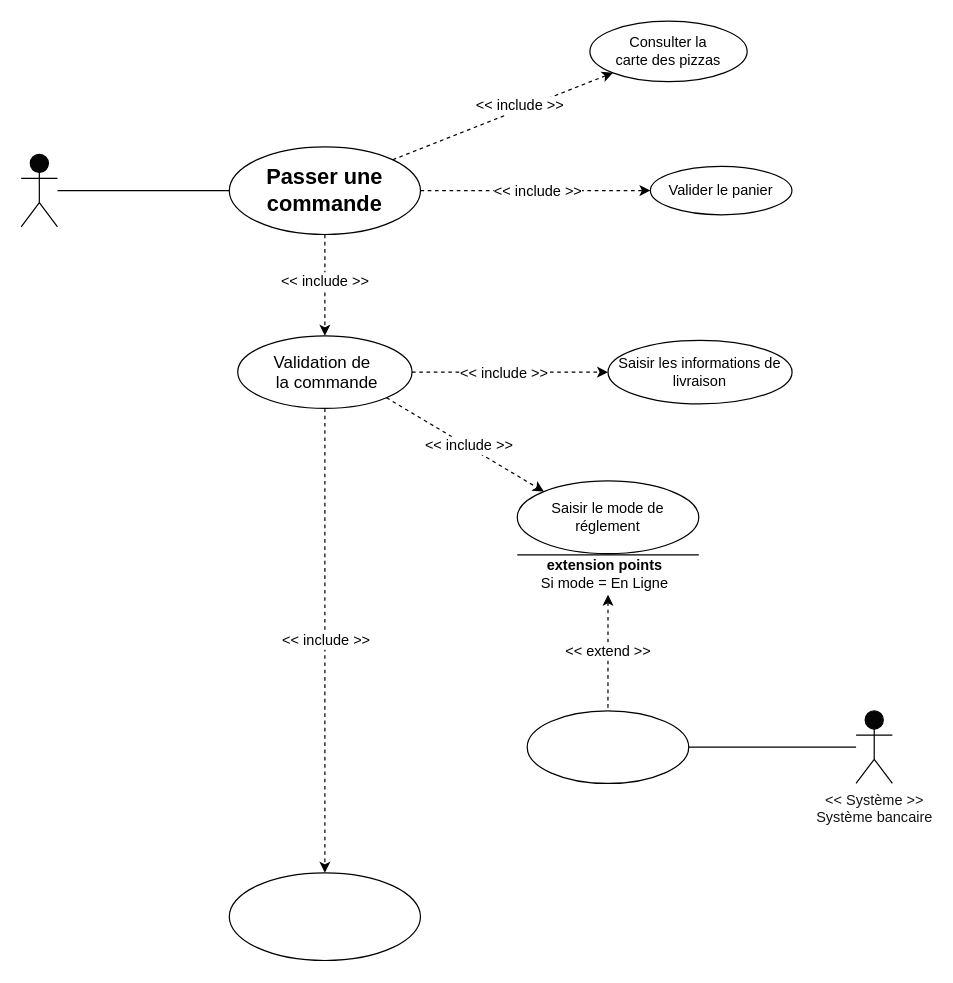
Some shapes in this 953 by 983 pixel diagram are drawn without their labels. The shapes that lost their labels are listed below. From the top down, each one's centre as x and y in pixels, then its label:
At (38,190): "Client".
At (607,746): "Valider le paiement".
At (324,916): "Envoie de la commande".
